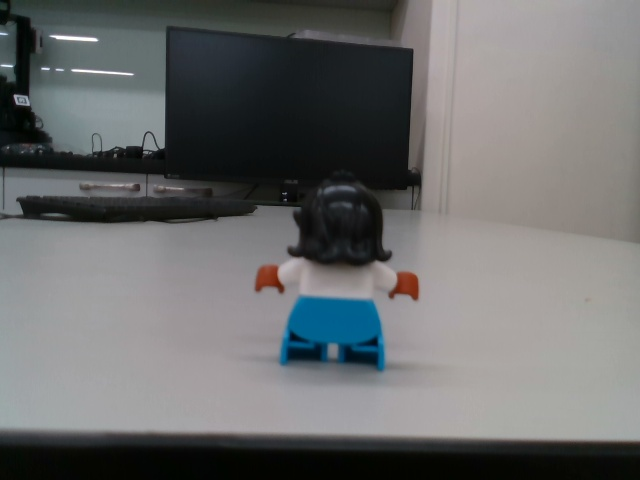people: (254, 174, 423, 372)
